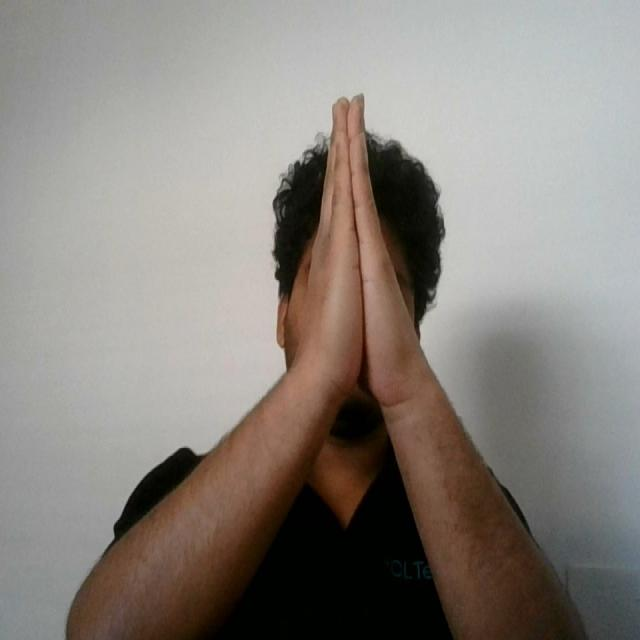Thanks: (289, 84, 431, 426)
